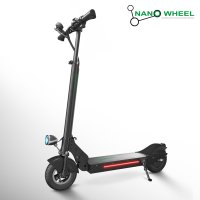scooter: (45, 8, 169, 191)
